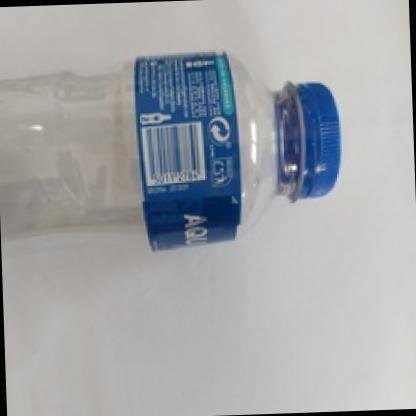plastic_bottles: (0, 44, 349, 256)
